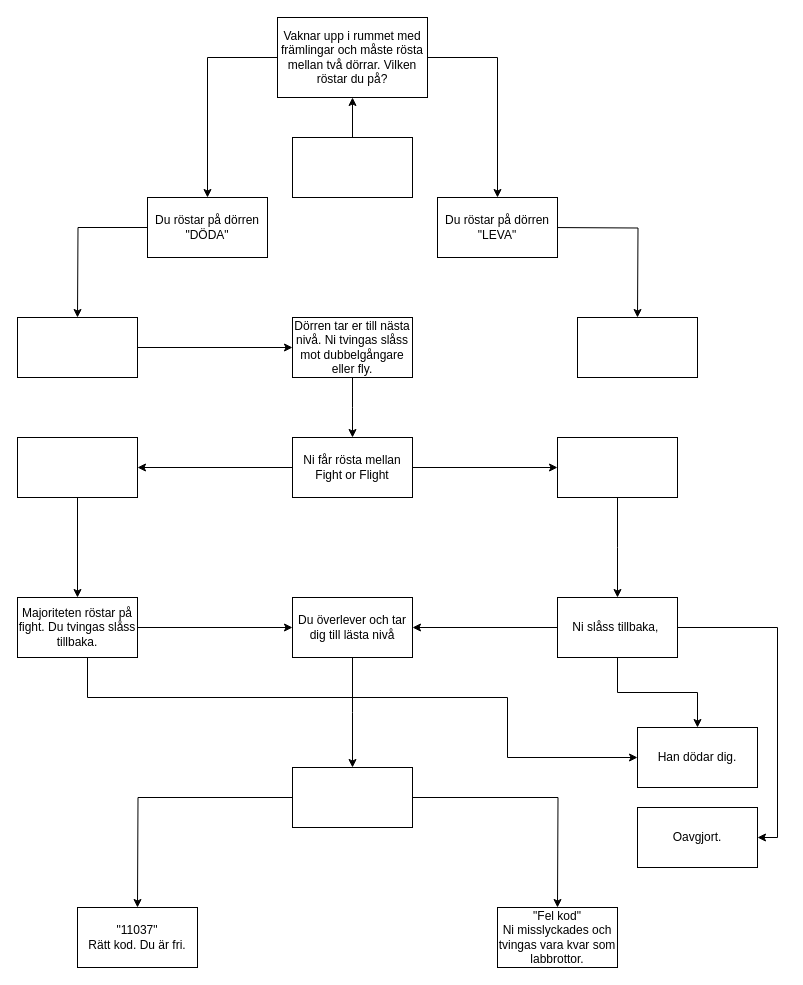
Some shapes in this 803 by 985 pixel diagram are drawn without their labels. Each missing label, with the box of its shape:
Du röstar på fight: (556, 436, 678, 498)
Du röstar på flight: (16, 436, 138, 498)
Majoritet röstning: (292, 136, 412, 198)
Majoriteten röstar på "DÖDA", ni går in i dörren och överlever: (16, 316, 138, 378)
Majoriteten röstar på "LEVA", ni går in i dörren och alla dör.: (576, 316, 698, 378)
Sista nivån: Skriv in rätt kod. Hitta den hemliga koden. 1 försök.: (292, 766, 412, 828)
